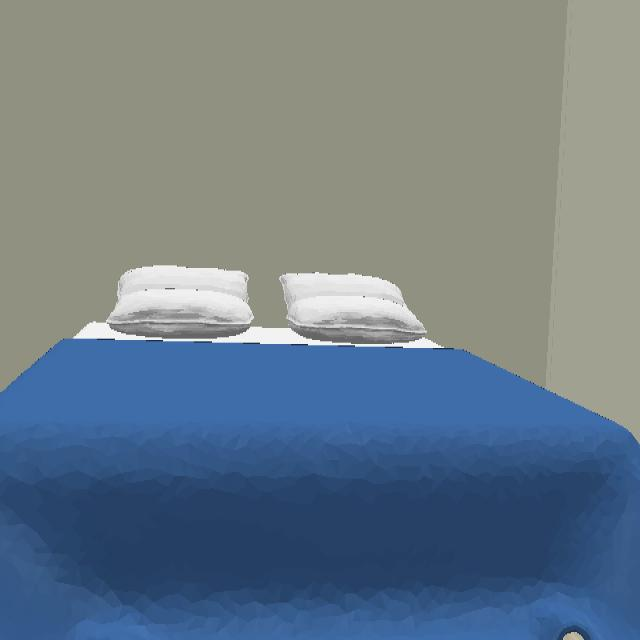bed: (0, 265, 640, 640)
pillow: (106, 265, 255, 341), (279, 273, 427, 347)
